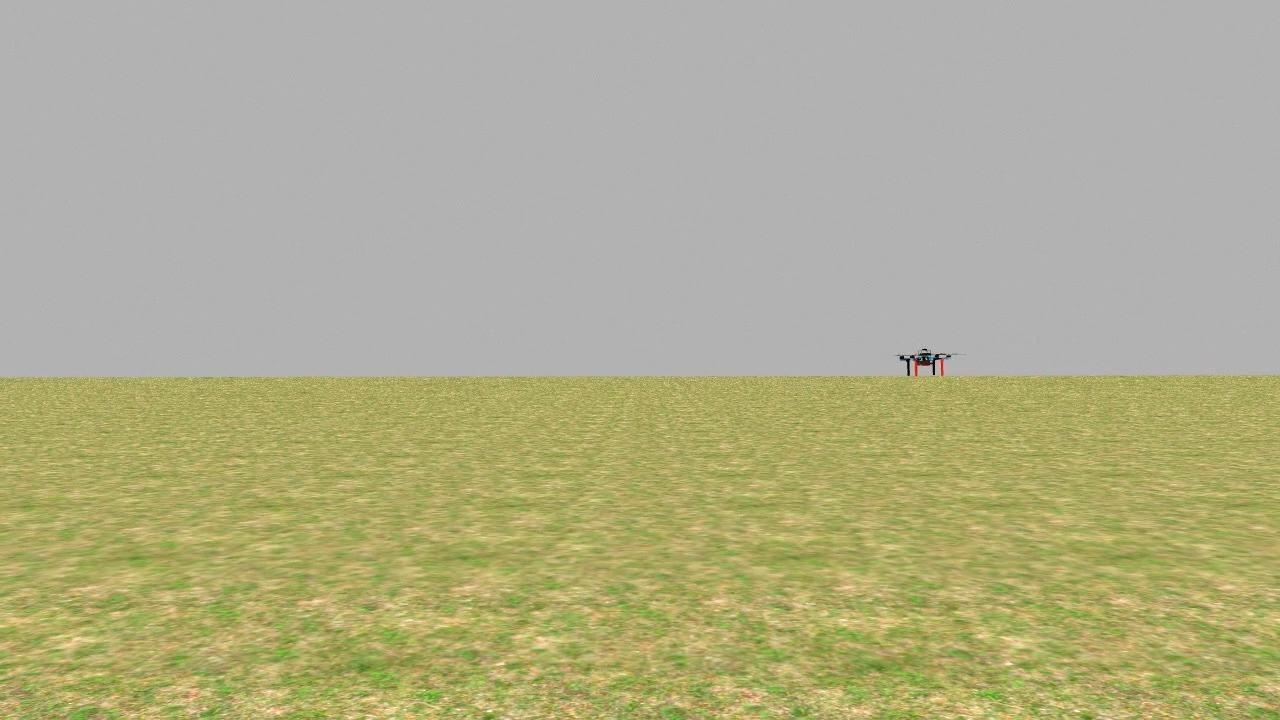UAV: (887, 339, 962, 385)
